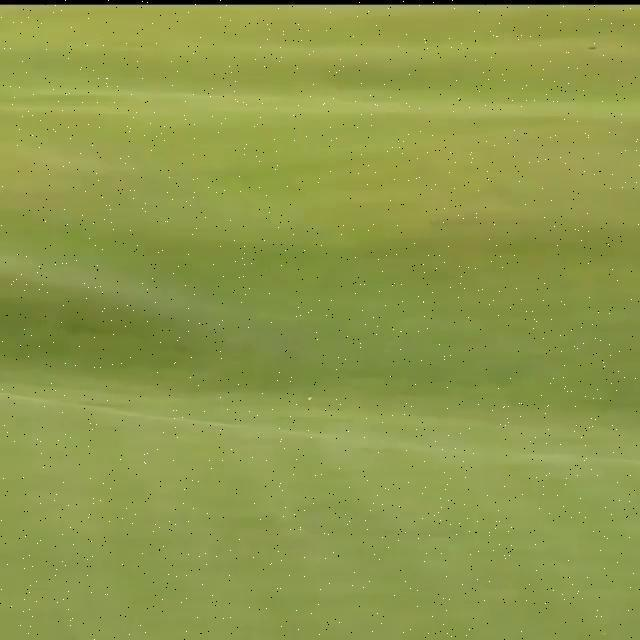GolfBall: (307, 396, 312, 402)
